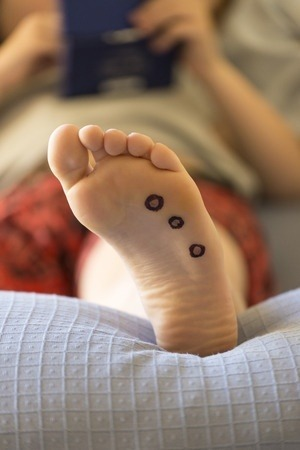Warts: (138, 184, 208, 273)
